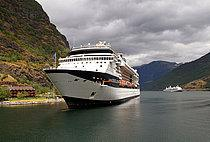Ship: (38, 36, 145, 114)
